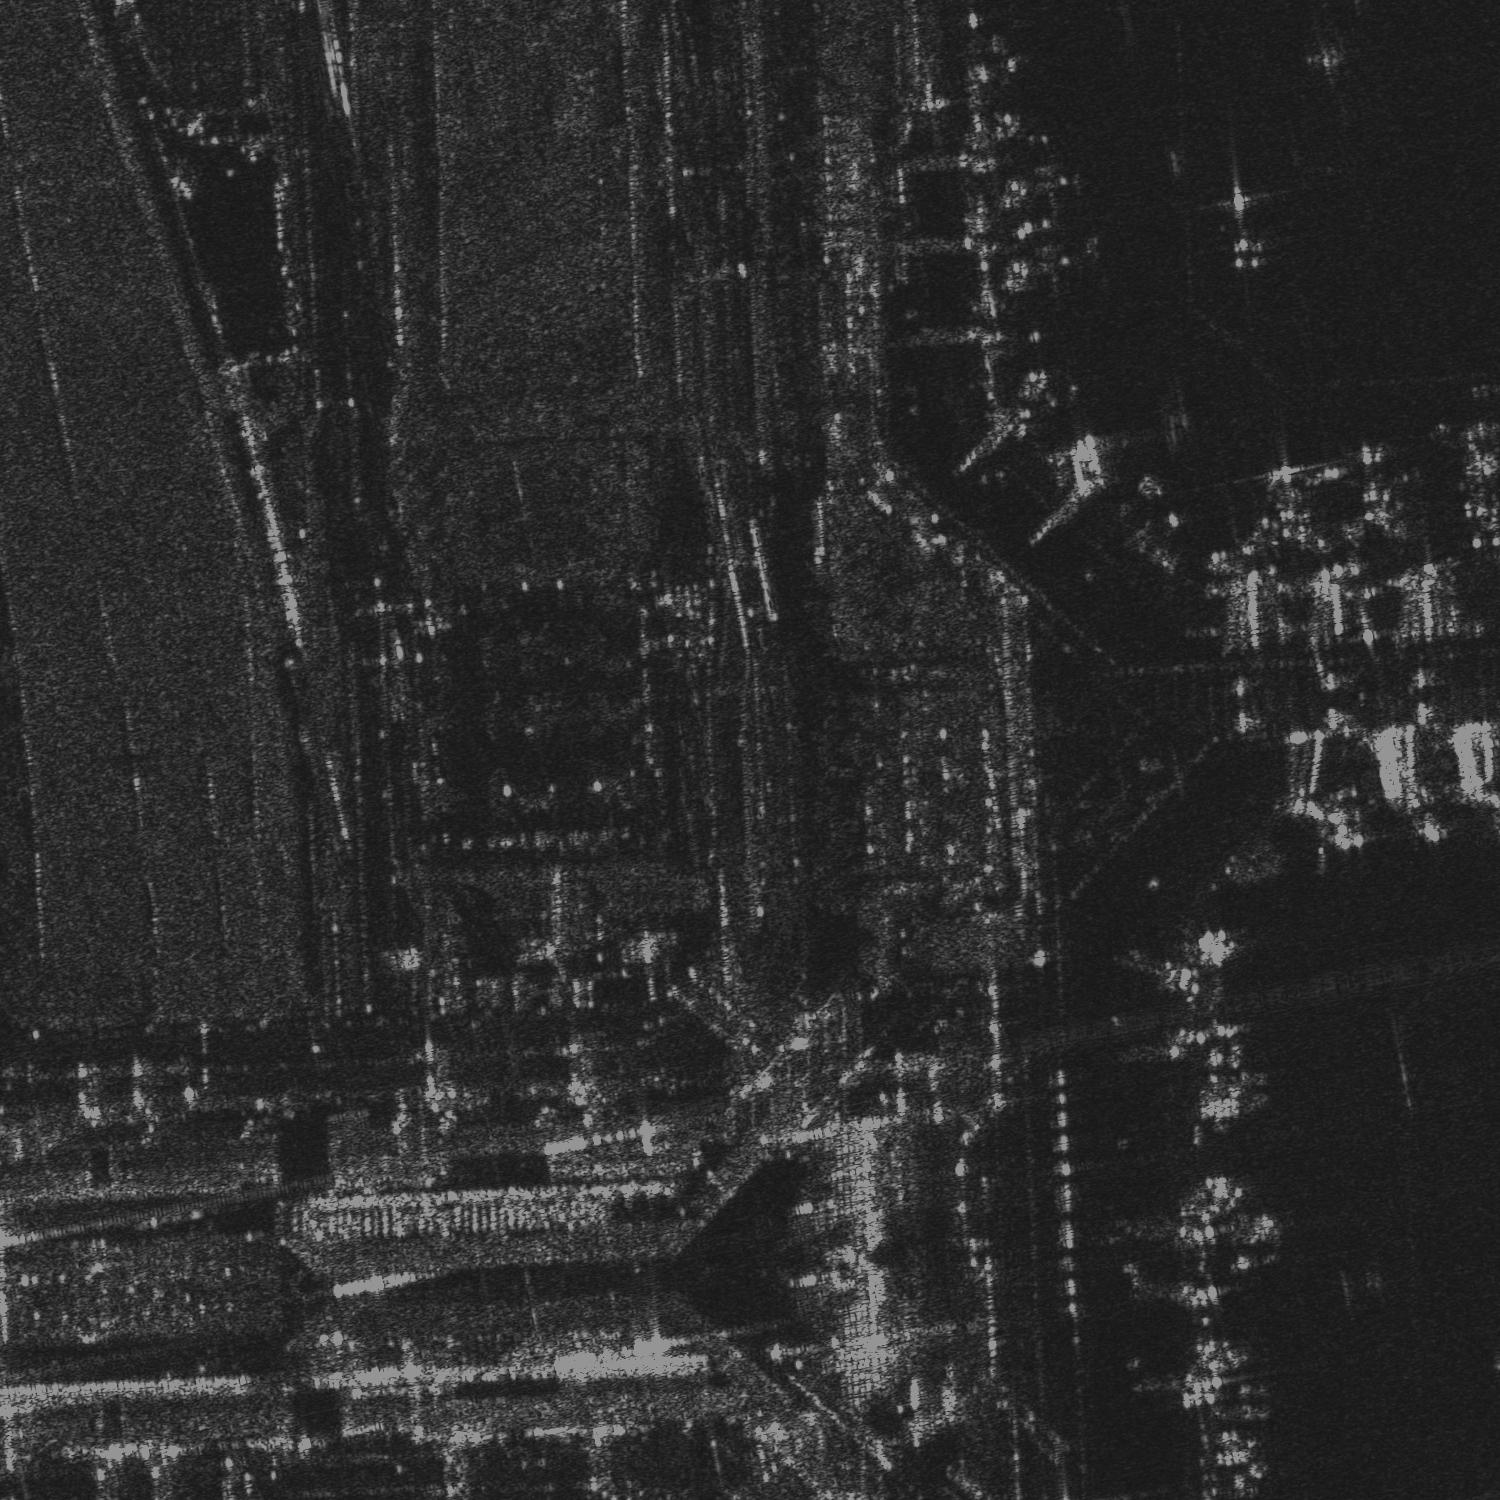A220: (1235, 456, 1332, 552), (1012, 227, 1107, 301), (1005, 148, 1091, 214)
Boeing737: (1183, 183, 1313, 273)
other: (1335, 440, 1431, 538), (1302, 27, 1364, 87)
